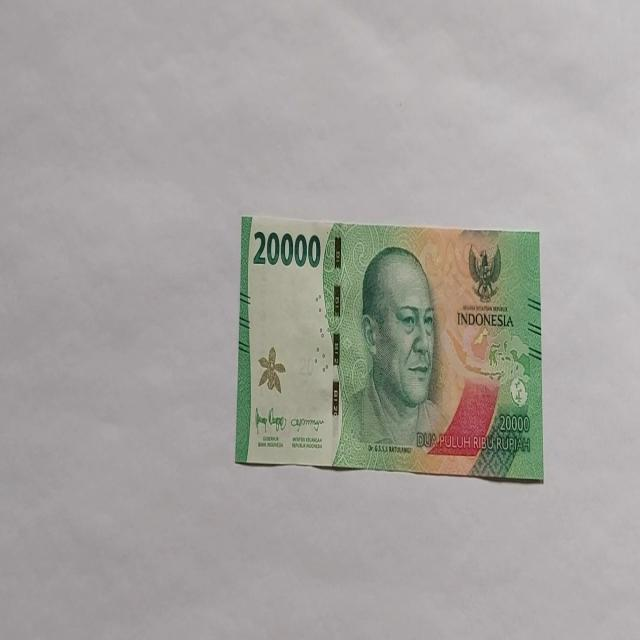dua puluh ribu rupiah: (234, 213, 544, 481), (332, 243, 452, 470)
